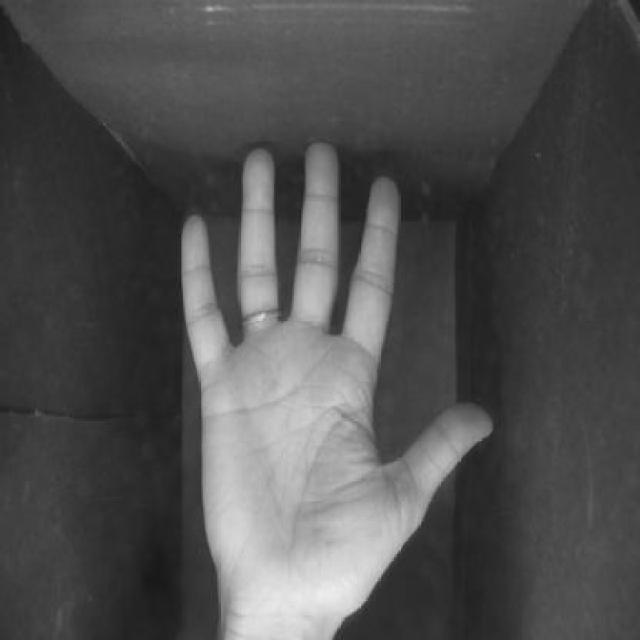no-gloves: (139, 61, 517, 630)
